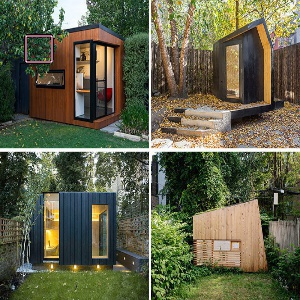square: (23, 34, 55, 66)
